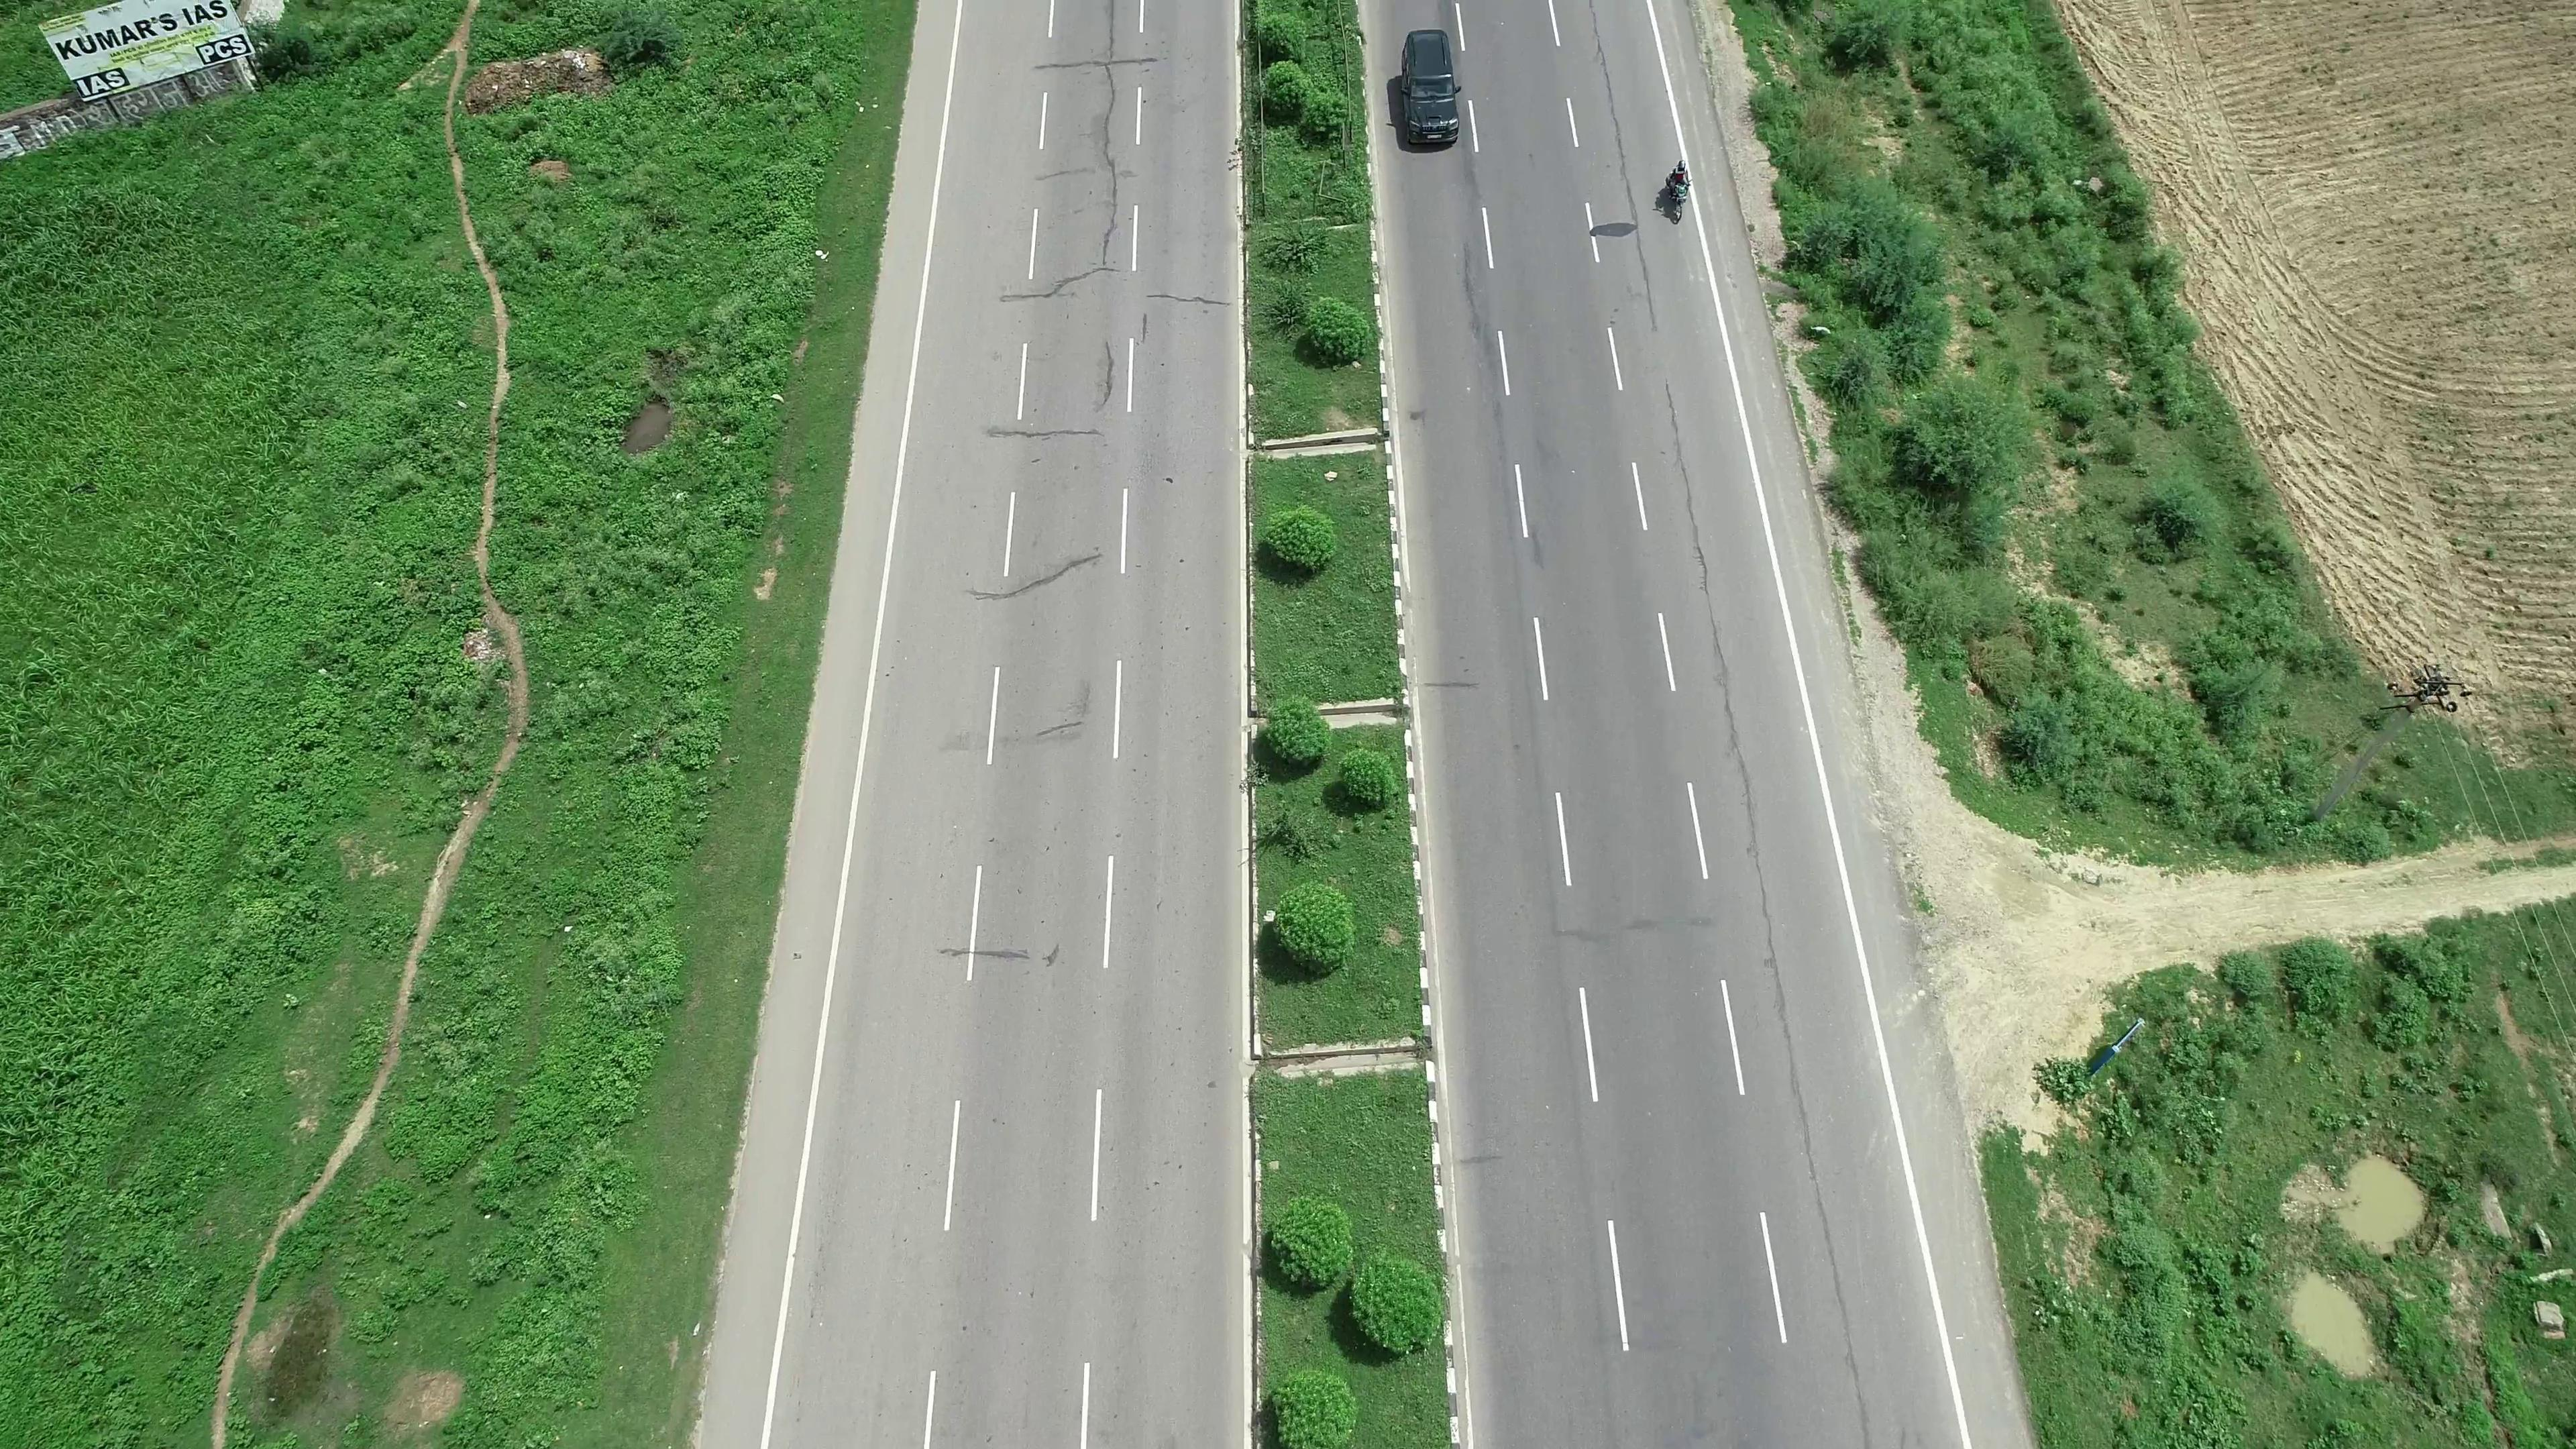Longitudinal_cracks: (1771, 970, 1877, 1447), (1691, 577, 1775, 954), (1635, 251, 1702, 557), (1585, 5, 1638, 216), (1092, 4, 1122, 264)
